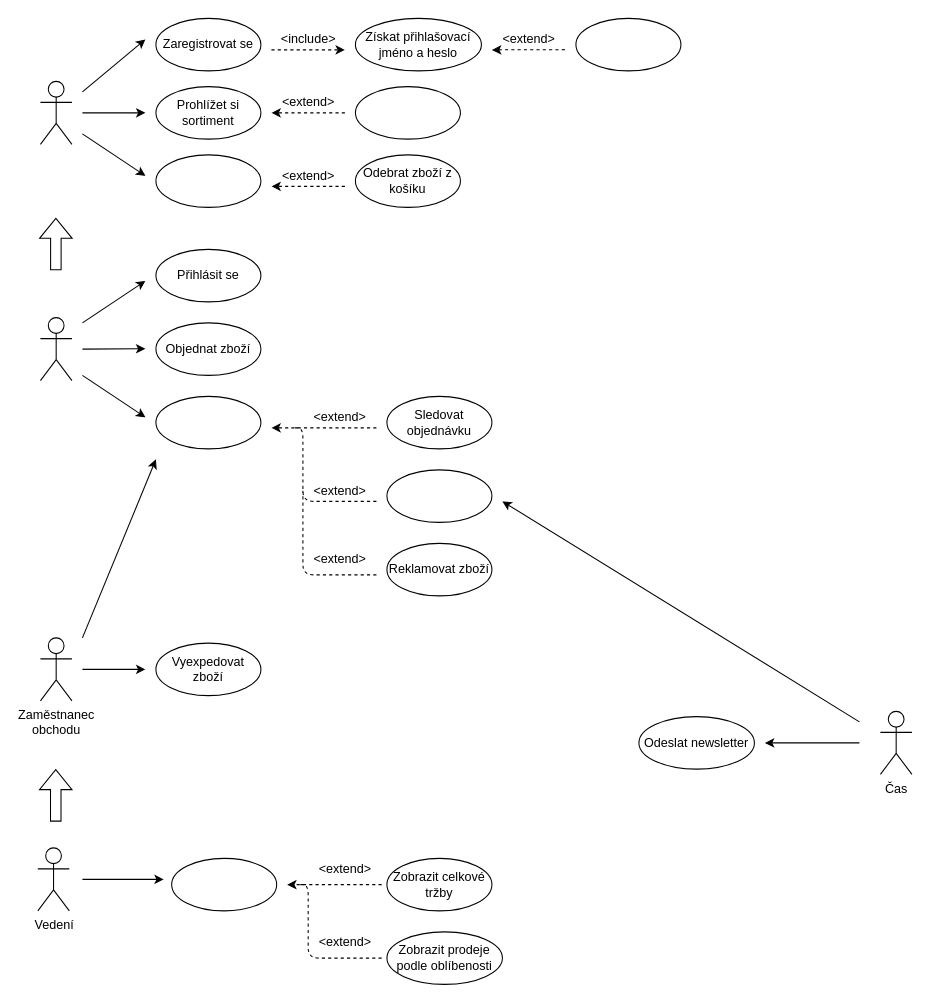
Some shapes in this 930 by 1003 pixel diagram are drawn without their labels. The centre of each missing label's shape, as x and y in pixels:
"Modifikovat osobní údaje" belongs at [628,44].
"Návštěvník" belongs at [55,112].
"Přehled všech objednávek" belongs at [224,884].
"Přidat produkt do košíku" belongs at [407,112].
"Registrovaný uživatel" belongs at [55,349].
"Stornovat objednávku" belongs at [439,495].
"Zobrazit košík" belongs at [208,180].
"Zobrazit objednávku" belongs at [208,422].
